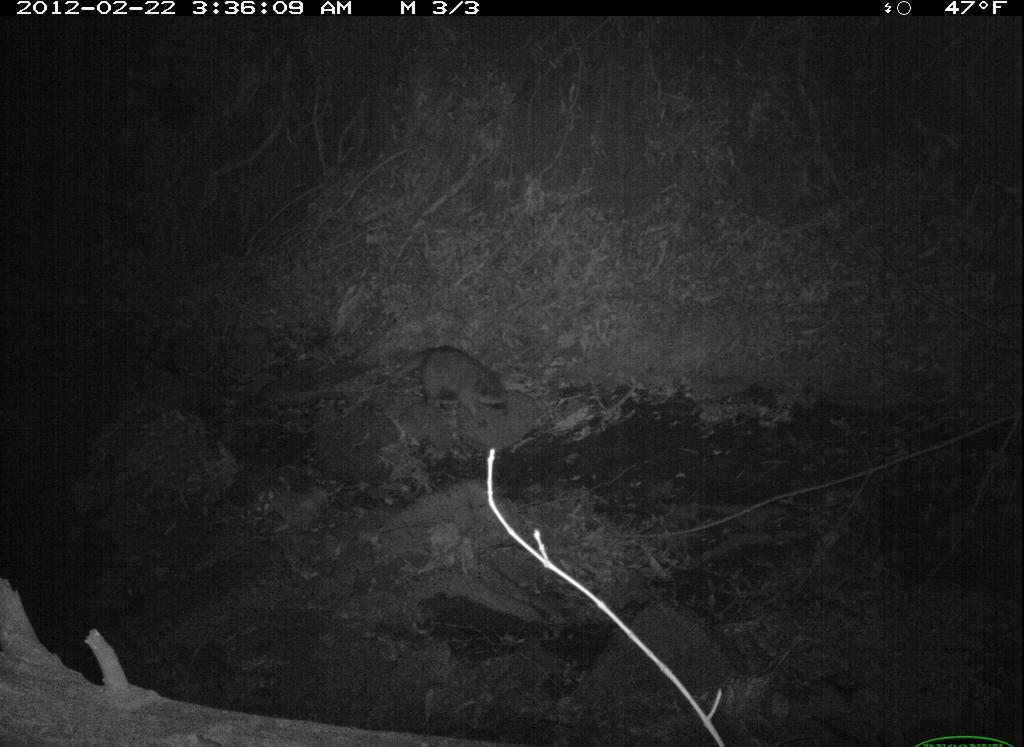raccoon: (395, 323, 520, 432)
